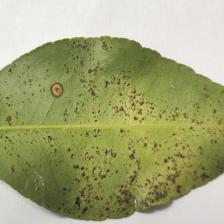canker: (39, 60, 181, 203)
